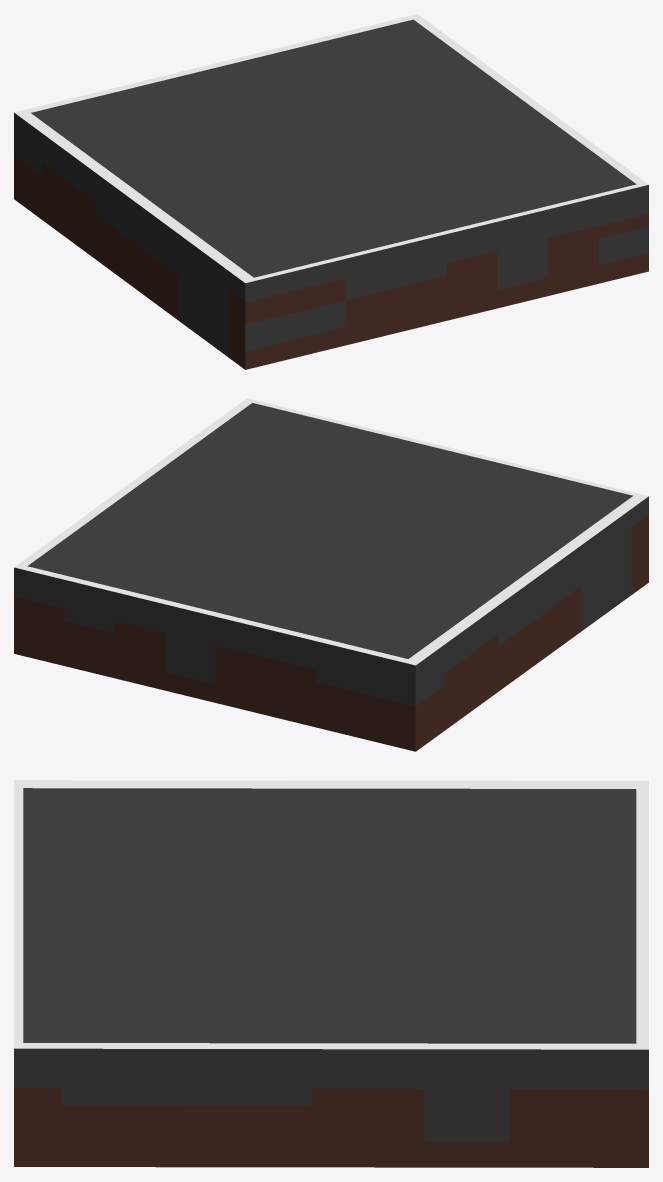
The model's file is Stone.fbx.
3 views of the same model, one above another, from view 1: azimuth 30°, elevation 25°; view 2: azimuth 150°, elevation 25°; view 3: azimuth 270°, elevation 25° (orthographic). The views are drawn at different scales.
Visible parts, largest first — view 1: Stone.001; view 2: Stone.001; view 3: Stone.001.
Part boxes in pixels (left/top/right/bottom): Stone.001: left=14, top=14, right=648, bottom=369; Stone.001: left=14, top=398, right=648, bottom=751; Stone.001: left=14, top=780, right=648, bottom=1167.
Size of the model in its own units: 98.75 by 20.2 by 98.31.
